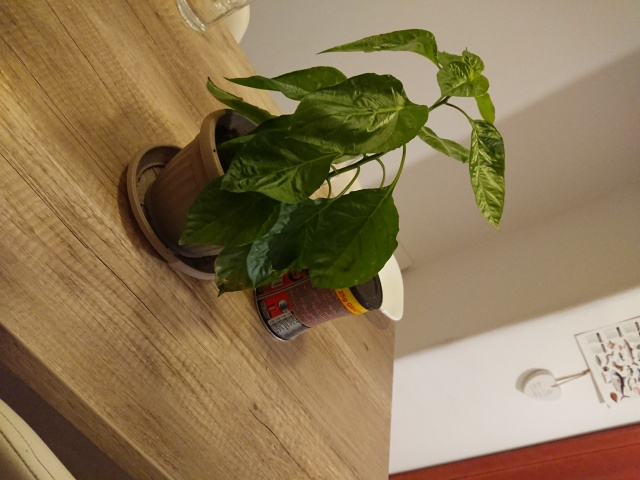Nescafe Classic 225g: (250, 241, 386, 345)
